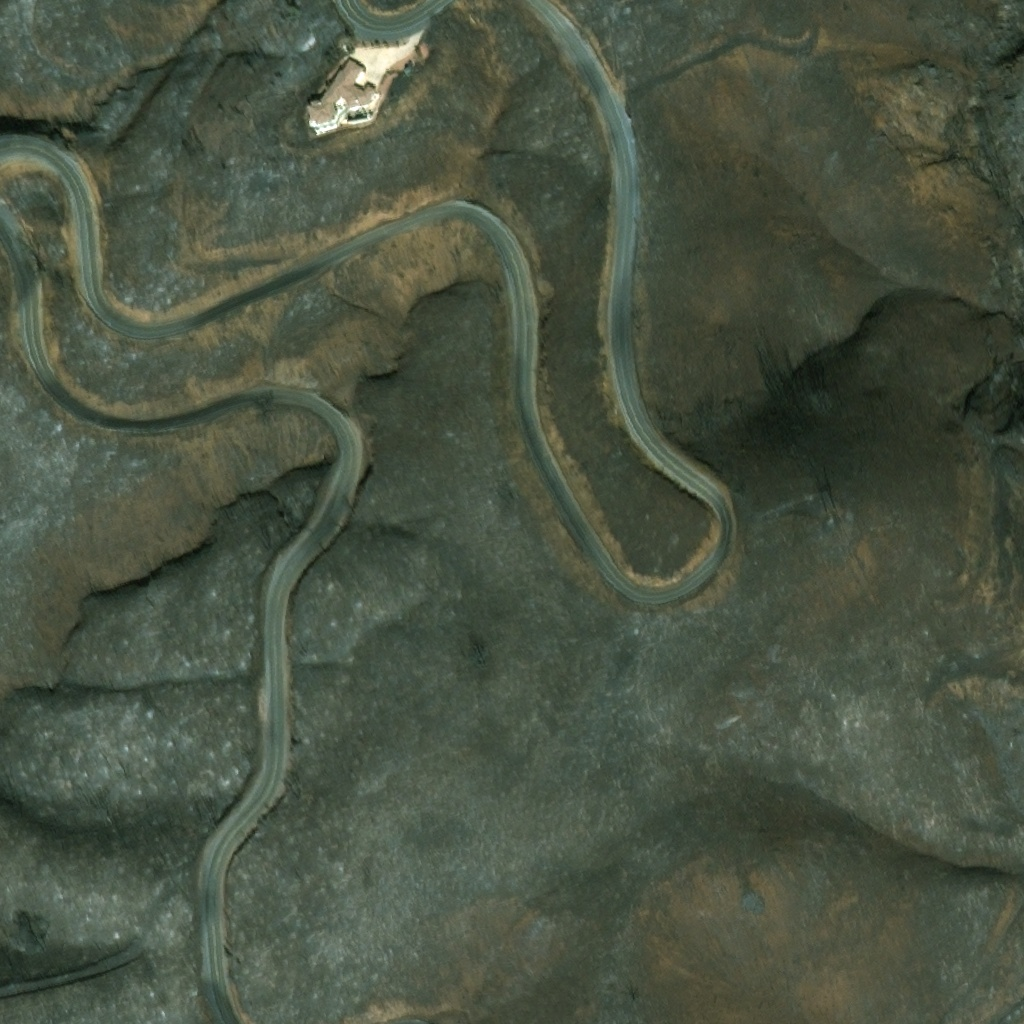0 no-damage: (307, 58, 379, 132)
